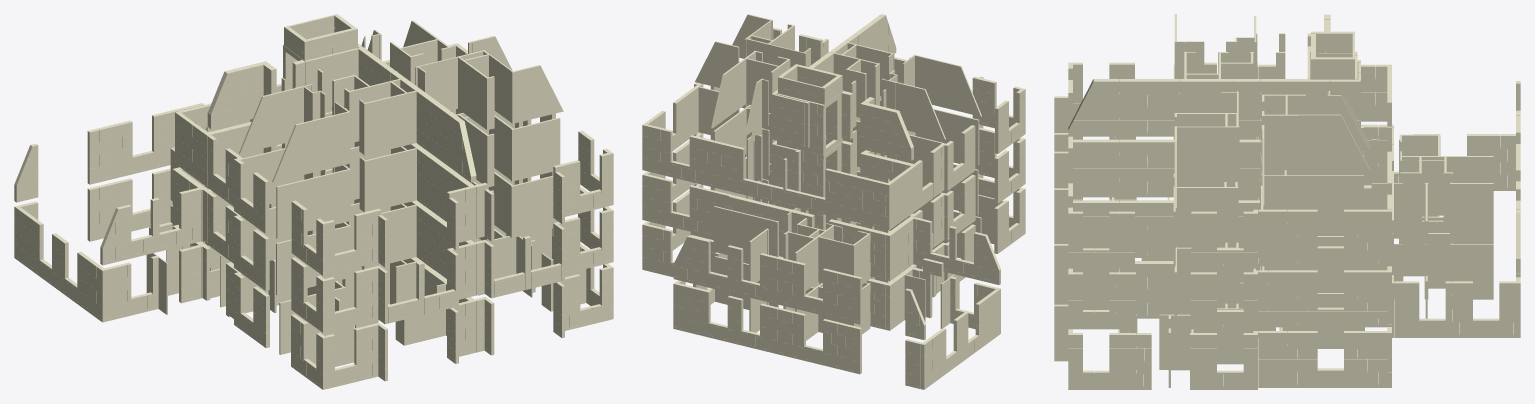
File: blockwork.glb
3 renders of one model, left to right at view 1: azimuth 30°, elevation 25°; view 2: azimuth 150°, elevation 25°; view 3: azimuth 270°, elevation 25°, orthographic. The views are drawn at different scales.
Parts seen in each view (by area): view 1: blockwork; view 2: blockwork; view 3: blockwork.
Part boxes in pixels (x1,y1,x2,y2): blockwork: (14,14,613,389); blockwork: (642,14,1025,389); blockwork: (1054,14,1520,389).
Size of the model in its own units: 21.3 by 12.69 by 20.89.
